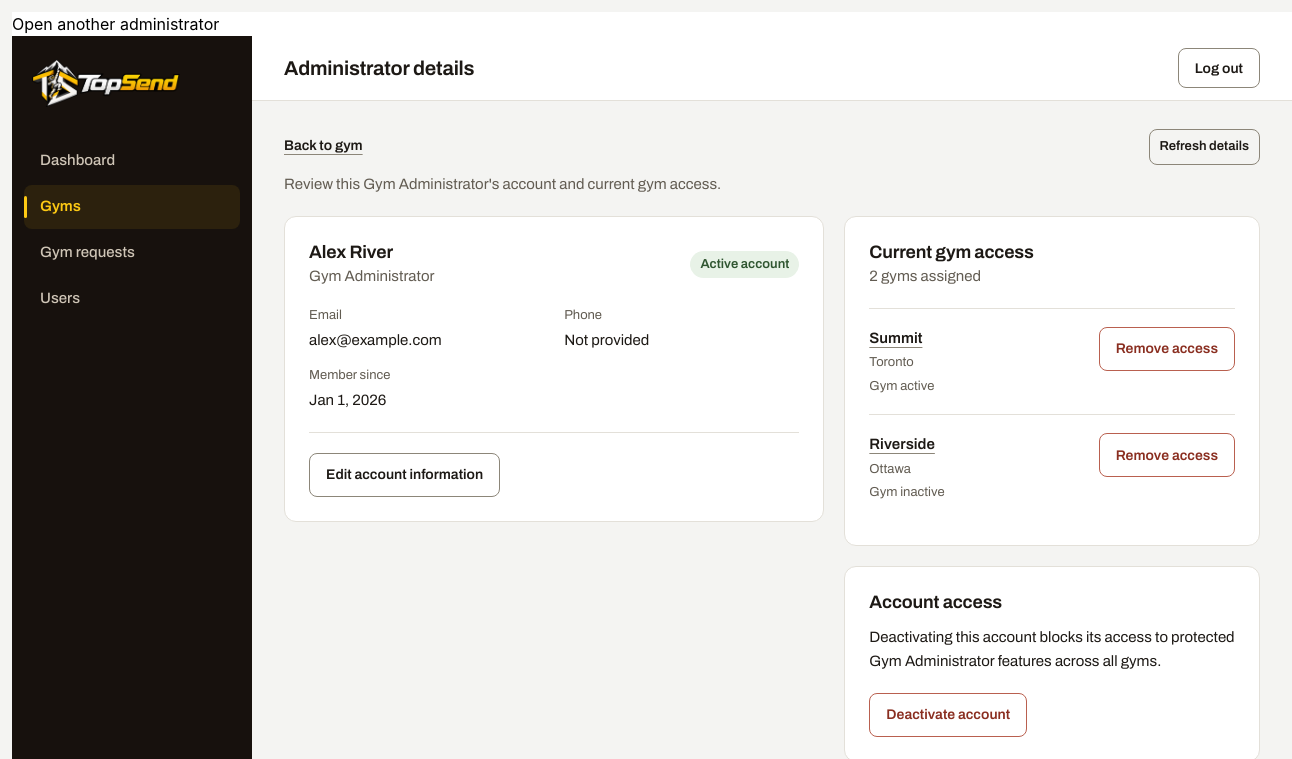
Test: US007 administrator details and access controls (injected contract) › allows correction of a duplicate email without discarding the draft or locking the form
Click the button "Edit account information": (405, 475) [309, 453, 500, 497]
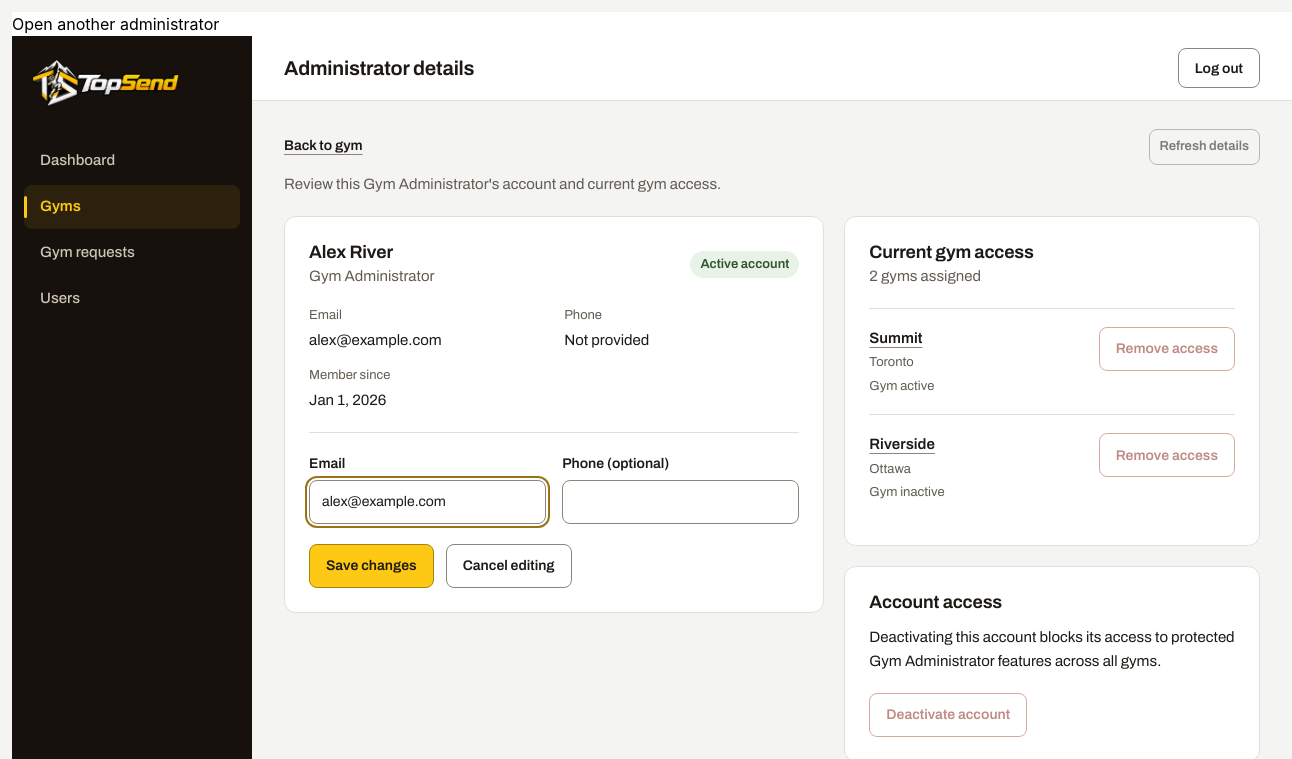
Replace the text in the field labelled "Email" with "taken@example.com": (428, 502) [309, 480, 546, 524]
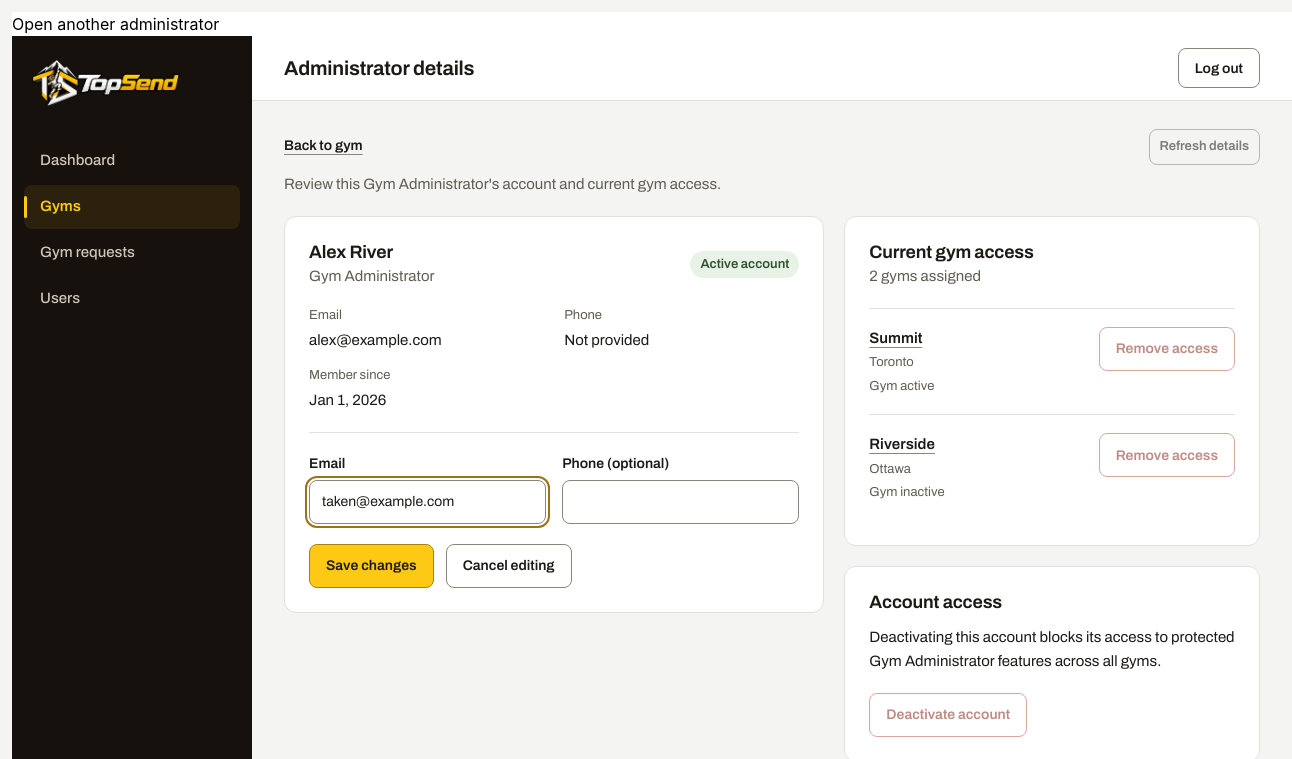
Click the button "Save changes": (371, 566) [309, 544, 434, 588]
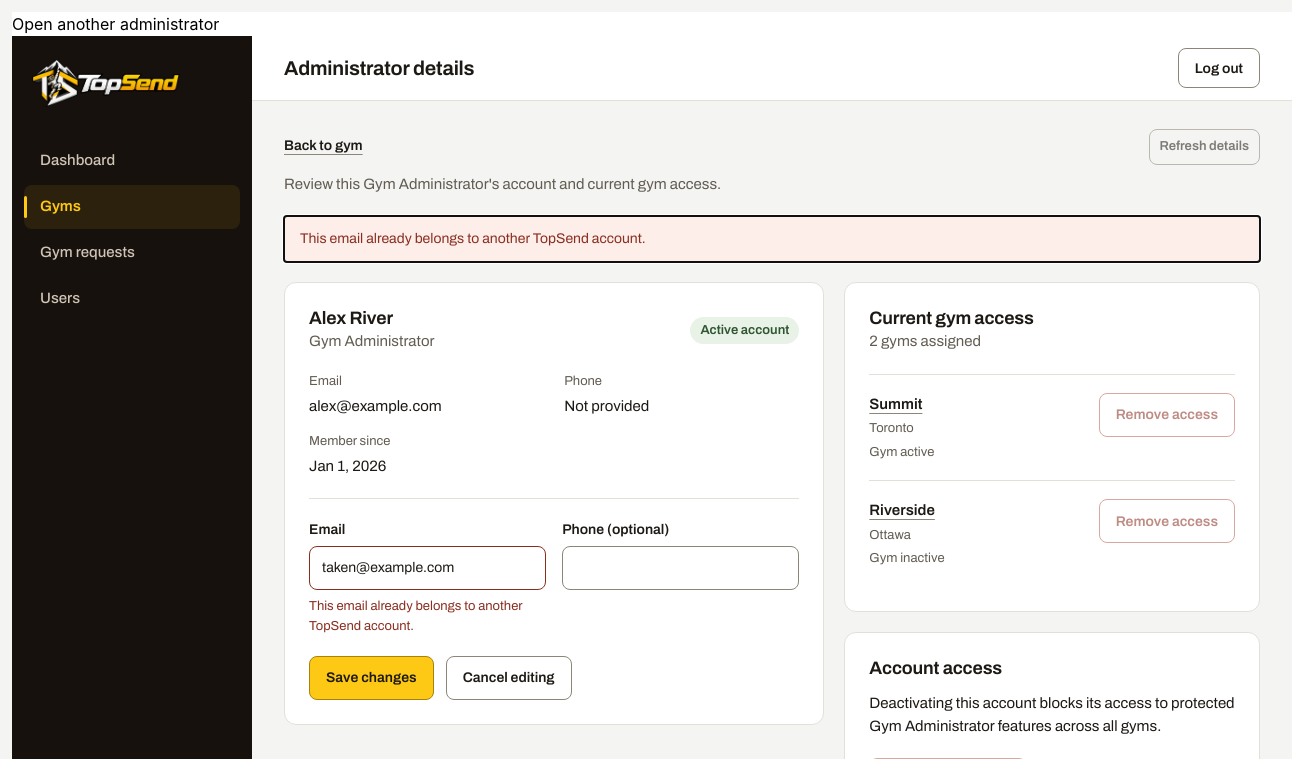
Now the button "Save changes" is enabled, box [309, 656, 434, 700]
Replace the text in the field labelled "Email" with "new@example.com": (428, 568) [309, 546, 546, 590]
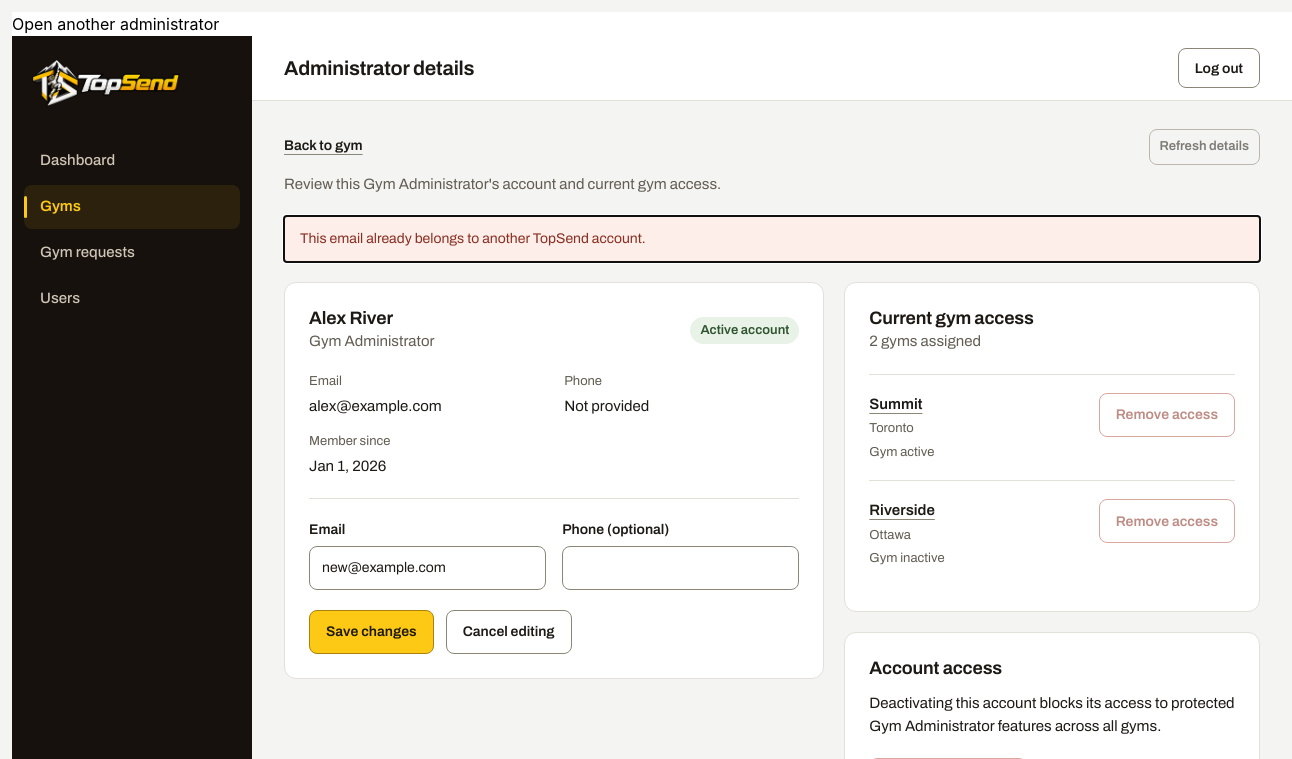
Click the button "Save changes": (371, 632) [309, 610, 434, 654]
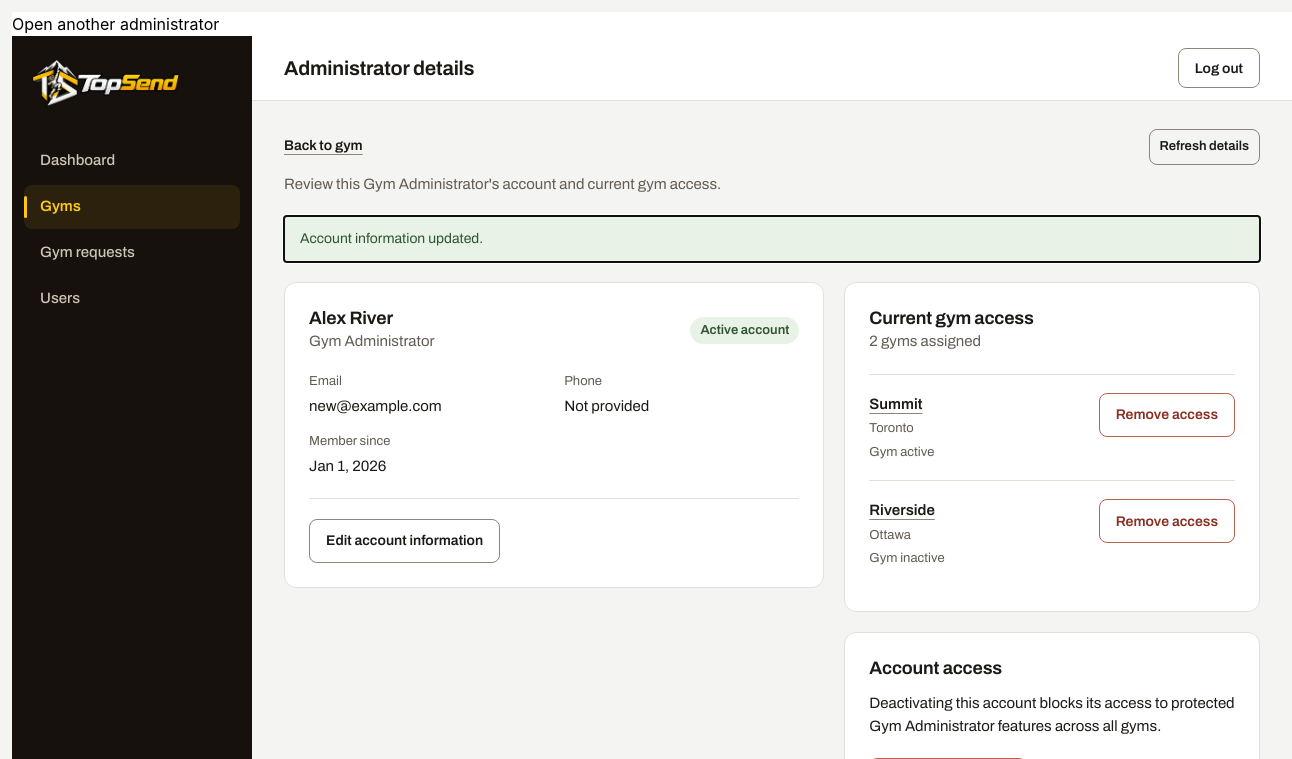
Now the text "Account information updated." is shown, box [284, 216, 1260, 262]
